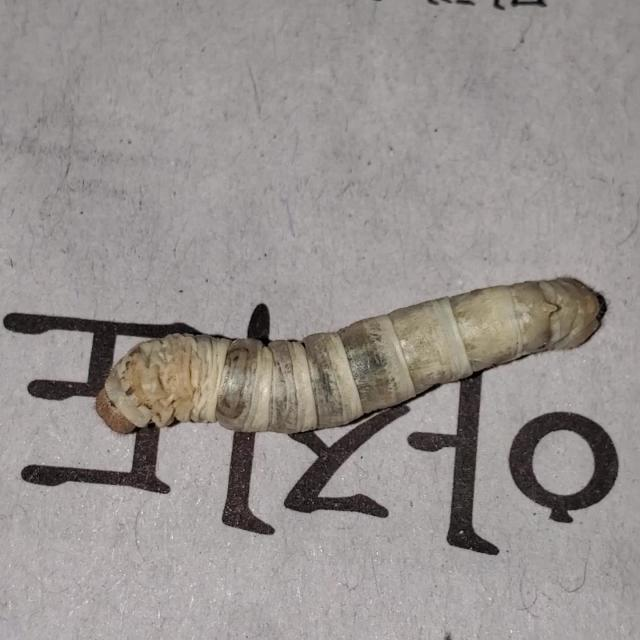Grasserie: (89, 252, 615, 446)
